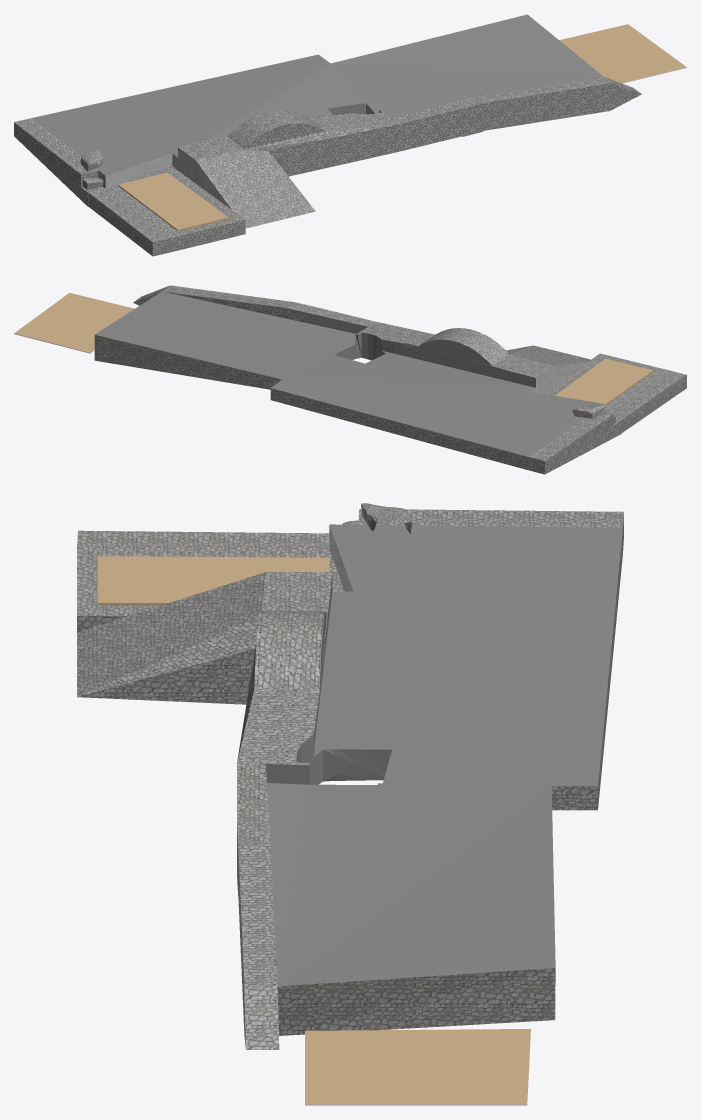
The model's file is podezdivka.dae.
3 views of the same model, one above another, from view 1: azimuth 30°, elevation 25°; view 2: azimuth 150°, elevation 25°; view 3: azimuth 270°, elevation 25° (orthographic). The views are drawn at different scales.
Visible parts, largest first — view 1: group_3 (×5), SketchUp, group_0; view 2: group_3 (×8), SketchUp, group_0, kamen; view 3: group_3 (×4), SketchUp, group_0, kamen.
Boxes of the visible parts, x1=… form: group_3 (×5): x1=14, y1=14, x2=641, y2=256; SketchUp: x1=559, y1=24, x2=686, y2=83; group_0: x1=118, y1=172, x2=228, y2=230; group_3 (×8): x1=94, y1=285, x2=686, y2=474; SketchUp: x1=14, y1=293, x2=134, y2=352; group_0: x1=555, y1=358, x2=653, y2=404; kamen: x1=572, y1=404, x2=606, y2=418; group_3 (×4): x1=77, y1=509, x2=623, y2=1049; SketchUp: x1=305, y1=1029, x2=530, y2=1104; group_0: x1=97, y1=556, x2=329, y2=605; kamen: x1=361, y1=503, x2=412, y2=533.
Bounding box in the file's own units: 948 × 400 × 94.5.
8 materials, 3 textured.
